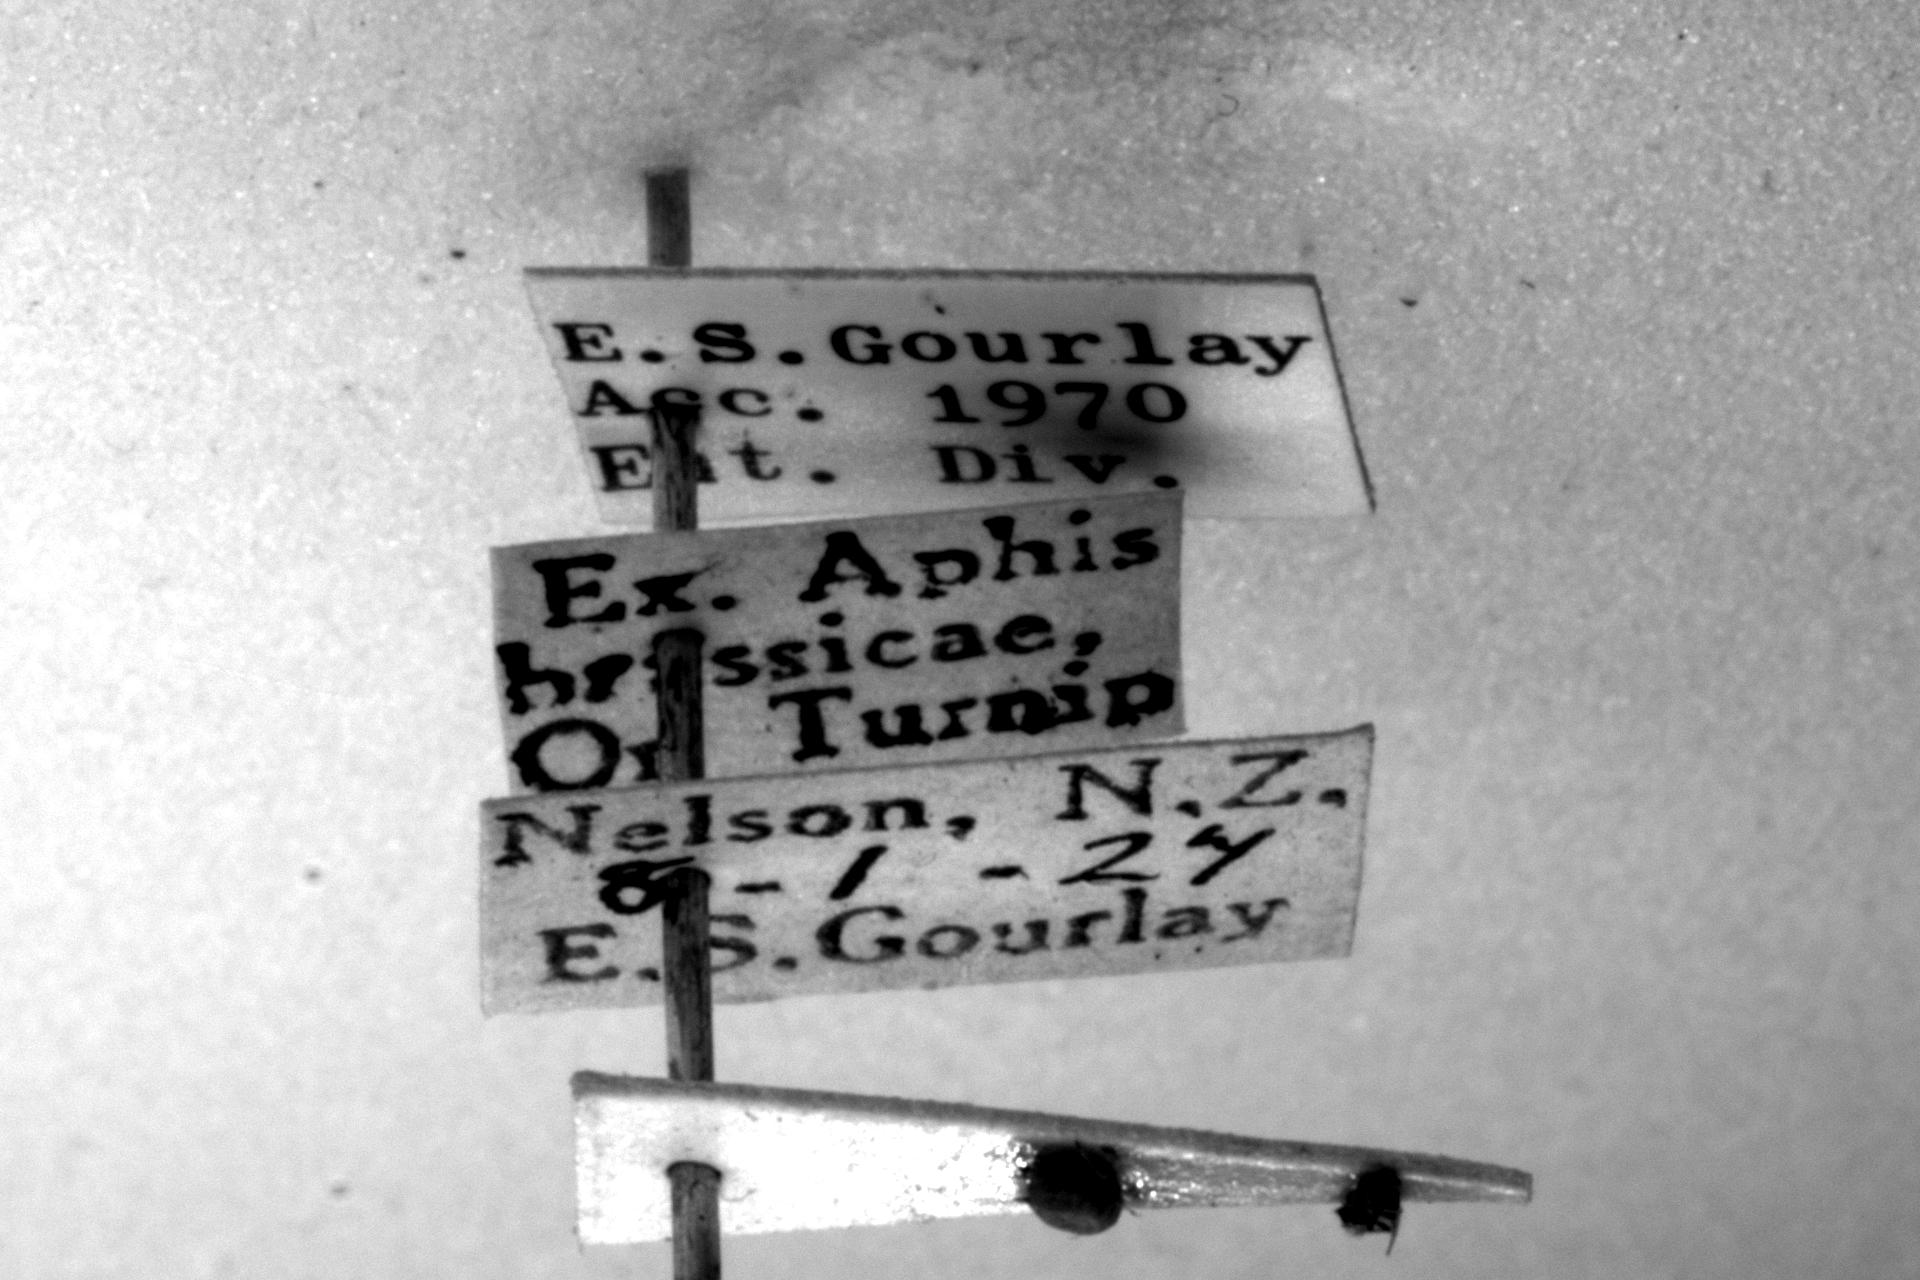mixed_label: (480, 727, 1373, 1013)
typed_label: (526, 266, 1373, 526), (491, 491, 1186, 791)
